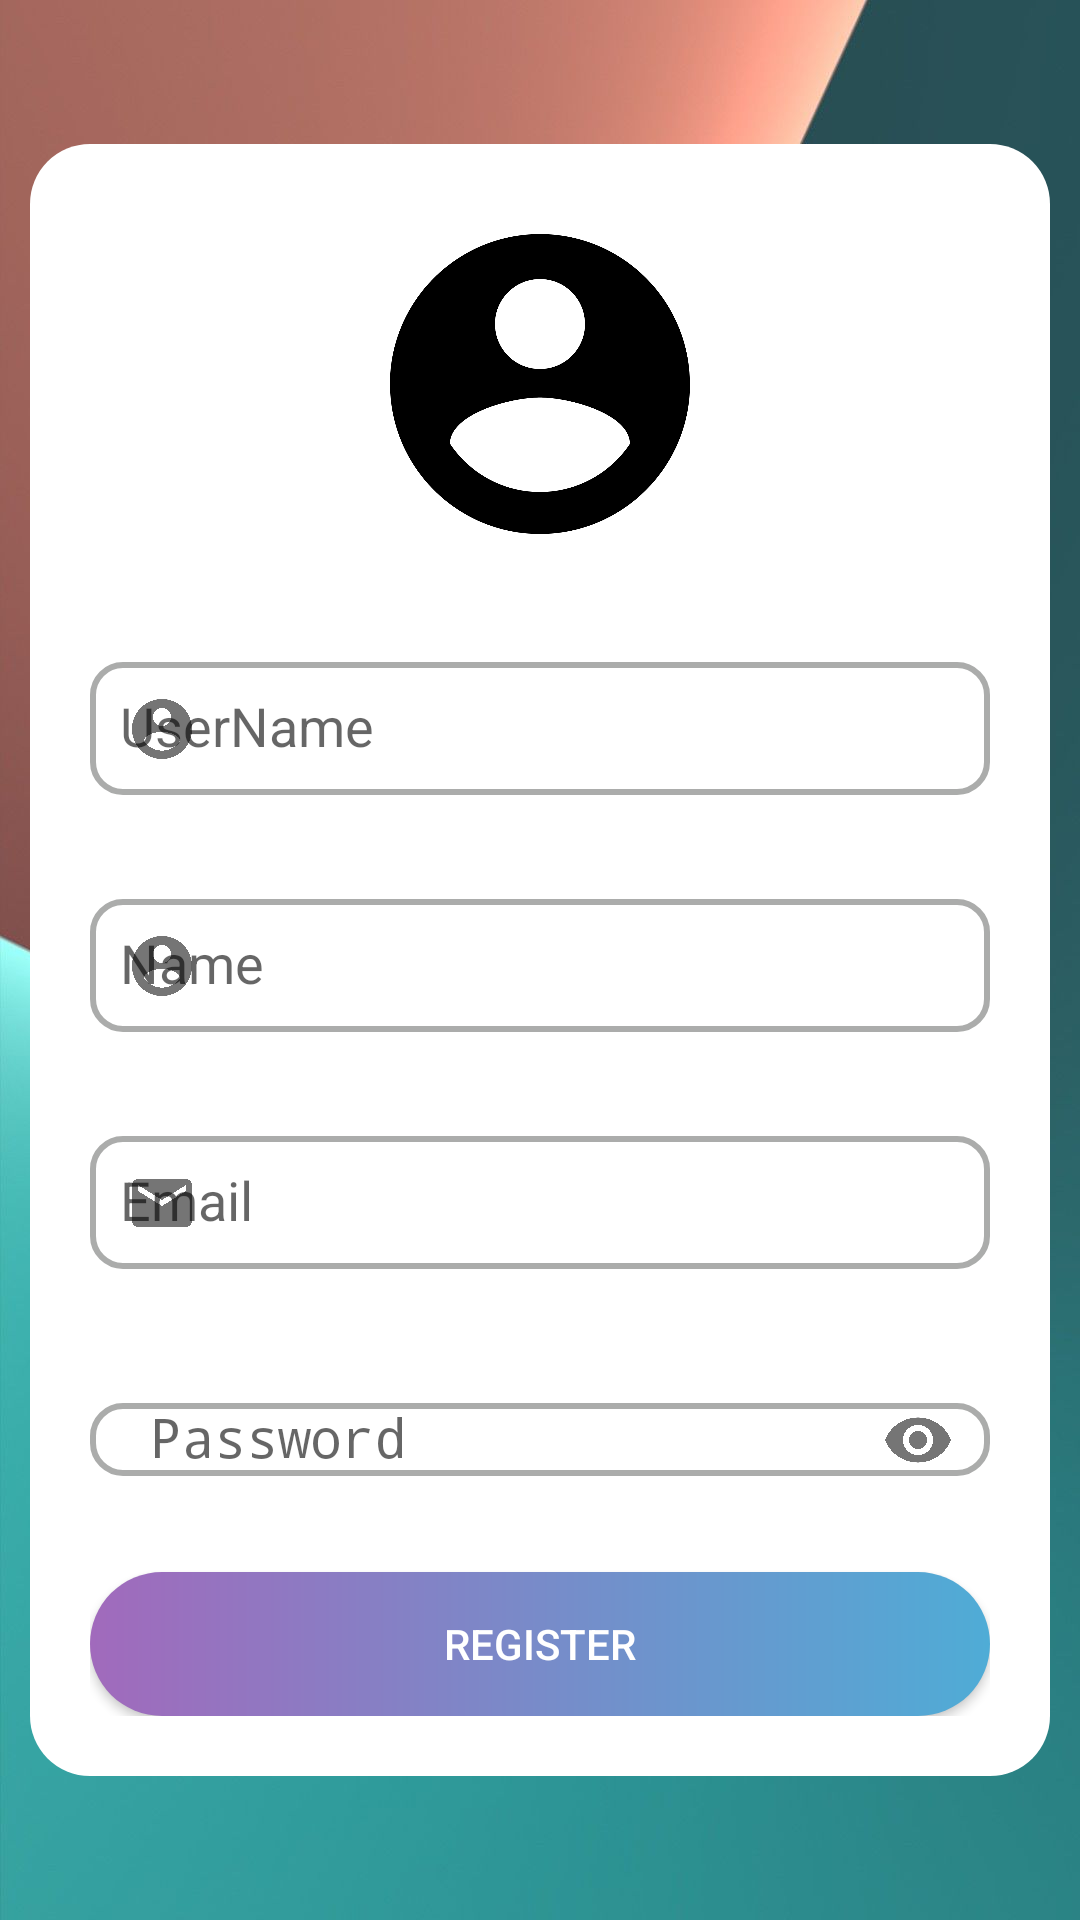

Where to tap for icons on this 1080x1920 app screen, as [x,y]:
account circle: [540,384]
